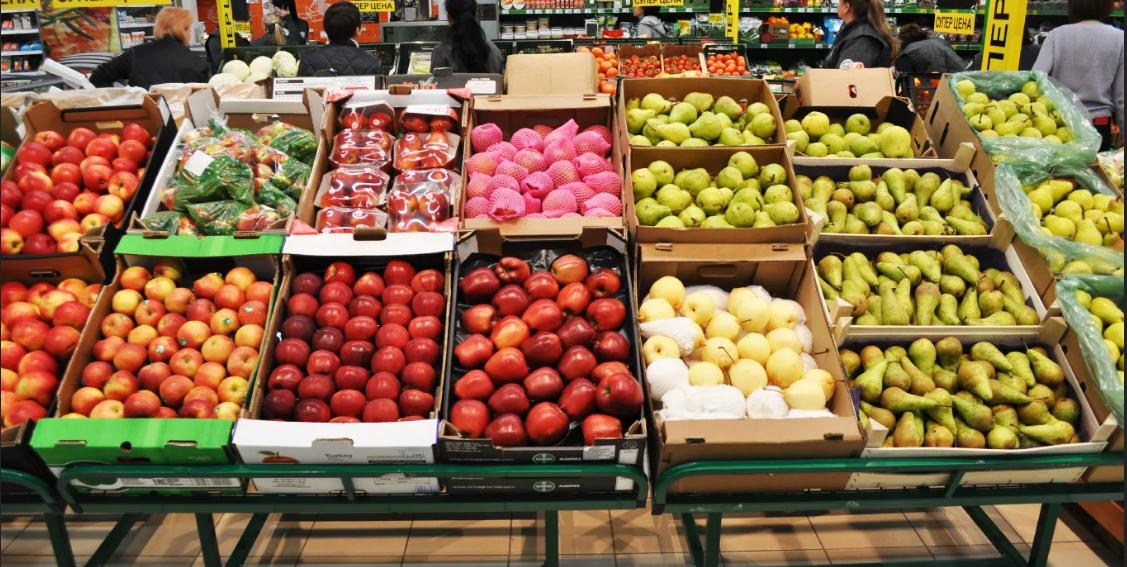pear: (842, 337, 1079, 453), (644, 269, 832, 413), (818, 242, 1041, 328), (796, 162, 992, 233), (633, 154, 798, 225), (630, 88, 776, 146), (1024, 176, 1127, 258), (956, 78, 1078, 143), (786, 111, 914, 158), (1077, 288, 1127, 392)
red apple: (450, 248, 644, 438), (87, 266, 269, 422), (265, 262, 442, 418), (138, 120, 312, 240), (0, 127, 152, 249), (320, 98, 451, 238), (462, 123, 624, 222), (0, 275, 100, 429)
